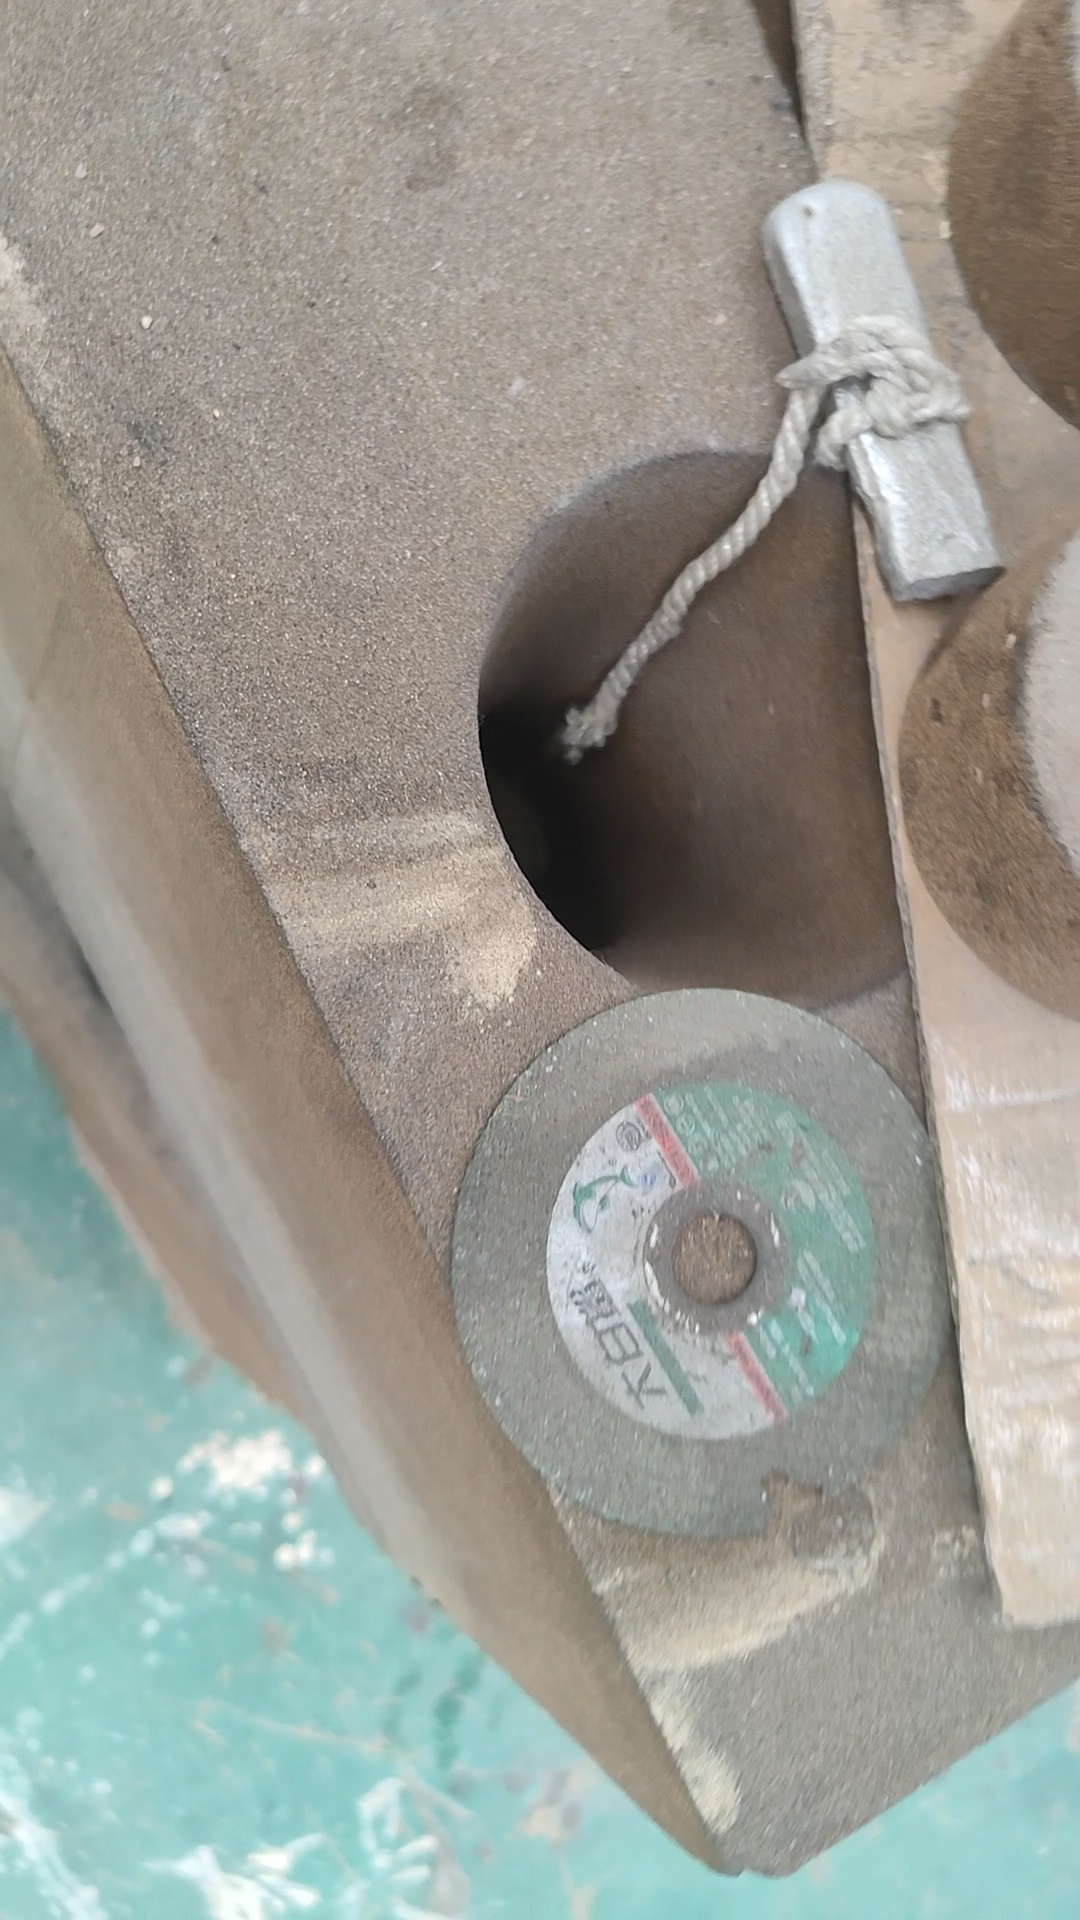pouring hole: (473, 450, 953, 1015)
